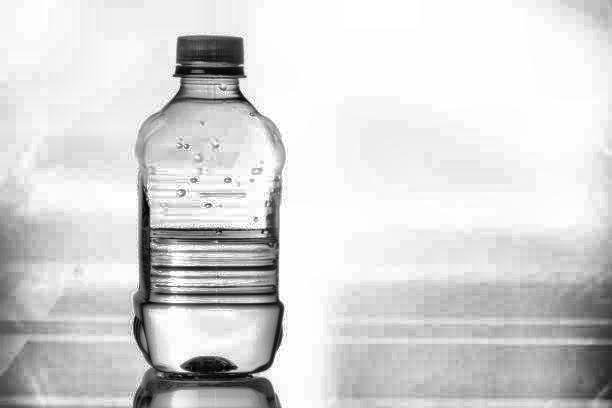waterbottle: (89, 20, 339, 382)
